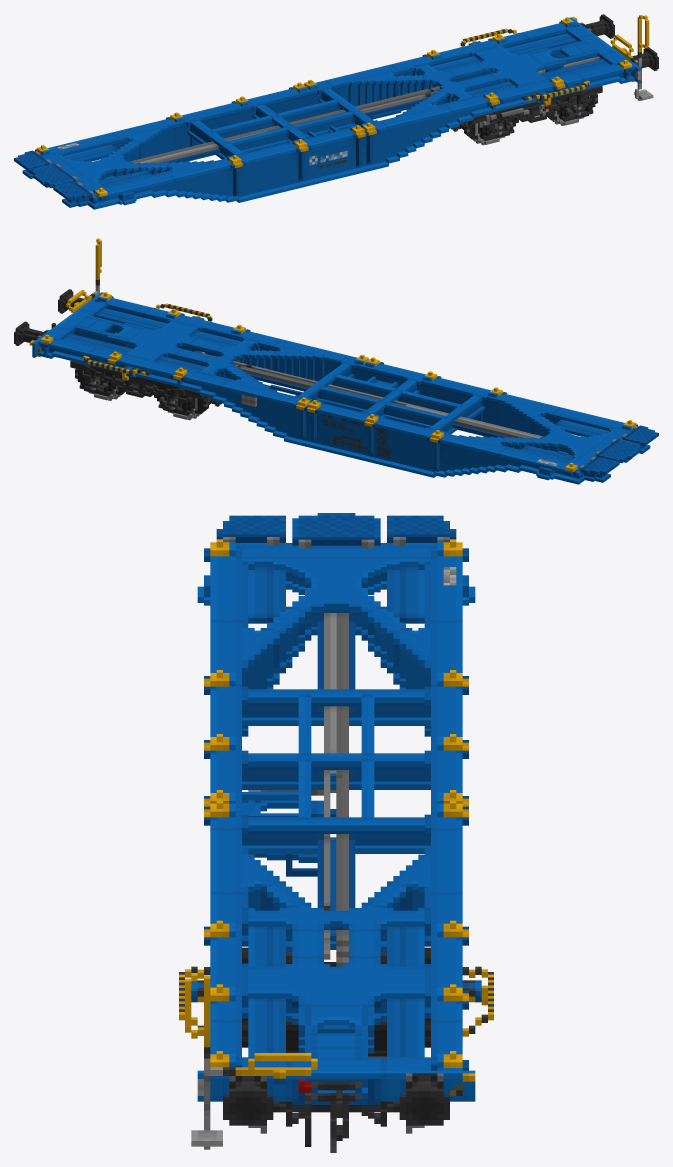
The model's file is eurowagon_sggrs_80-b.obj.
3 renders of one model, top to bottom at view 1: azimuth 30°, elevation 25°; view 2: azimuth 150°, elevation 25°; view 3: azimuth 270°, elevation 25°, orthographic. The views are drawn at different scales.
Parts seen in each view (by area): view 1: FRAME_1, Brake, BOGEY_FRONT_Frame, BOGEY_FRONT_Primary_Suspension, WIDGET_101_ROT_120, WIDGET_100, WIDGET_102_ROT_120, WIDGET_68_TOGGLE_CG_h1_HIDE, BOGEY_FRONT_Brake, WIDGET_67_TOGGLE_CG_h1_HIDE_INVERT; view 2: FRAME_1, Brake, BOGEY_FRONT_Frame, BOGEY_FRONT_Primary_Suspension, WIDGET_101_ROT_120, WIDGET_102_ROT_120, WIDGET_100, BOGEY_FRONT_Brake; view 3: FRAME_1, Brake, WIDGET_101_ROT_120, BOGEY_FRONT_Frame, WIDGET_100, WIDGET_102_ROT_120, WIDGET_67_TOGGLE_CG_h1_HIDE_INVERT, WIDGET_68_TOGGLE_CG_h1_HIDE.
Part boxes in pixels (x1,y1,x2,y2): FRAME_1: (22, 14, 658, 209); Brake: (128, 56, 600, 163); BOGEY_FRONT_Frame: (451, 86, 602, 131); BOGEY_FRONT_Primary_Suspension: (479, 93, 593, 140); WIDGET_101_ROT_120: (31, 163, 76, 187); WIDGET_100: (53, 181, 92, 199); WIDGET_102_ROT_120: (14, 150, 49, 171); WIDGET_68_TOGGLE_CG_h1_HIDE: (637, 15, 649, 65); BOGEY_FRONT_Brake: (459, 94, 597, 139); WIDGET_67_TOGGLE_CG_h1_HIDE_INVERT: (610, 34, 641, 66); FRAME_1: (14, 289, 650, 484); Brake: (196, 350, 544, 438); BOGEY_FRONT_Frame: (70, 361, 221, 406); BOGEY_FRONT_Primary_Suspension: (79, 368, 193, 415); WIDGET_101_ROT_120: (596, 438, 641, 462); WIDGET_102_ROT_120: (580, 456, 619, 474); WIDGET_100: (623, 425, 658, 446); BOGEY_FRONT_Brake: (75, 369, 213, 414); FRAME_1: (179, 539, 493, 1152); Brake: (242, 613, 348, 966); WIDGET_101_ROT_120: (292, 513, 380, 545); BOGEY_FRONT_Frame: (242, 947, 430, 1126); WIDGET_100: (216, 515, 285, 542); WIDGET_102_ROT_120: (387, 515, 456, 542); WIDGET_67_TOGGLE_CG_h1_HIDE_INVERT: (204, 1053, 317, 1075); WIDGET_68_TOGGLE_CG_h1_HIDE: (185, 970, 210, 1075).
Size of the model in its own units: 13.56 by 2.31 by 3.12.
Materials: 1 (1 with a texture image).
